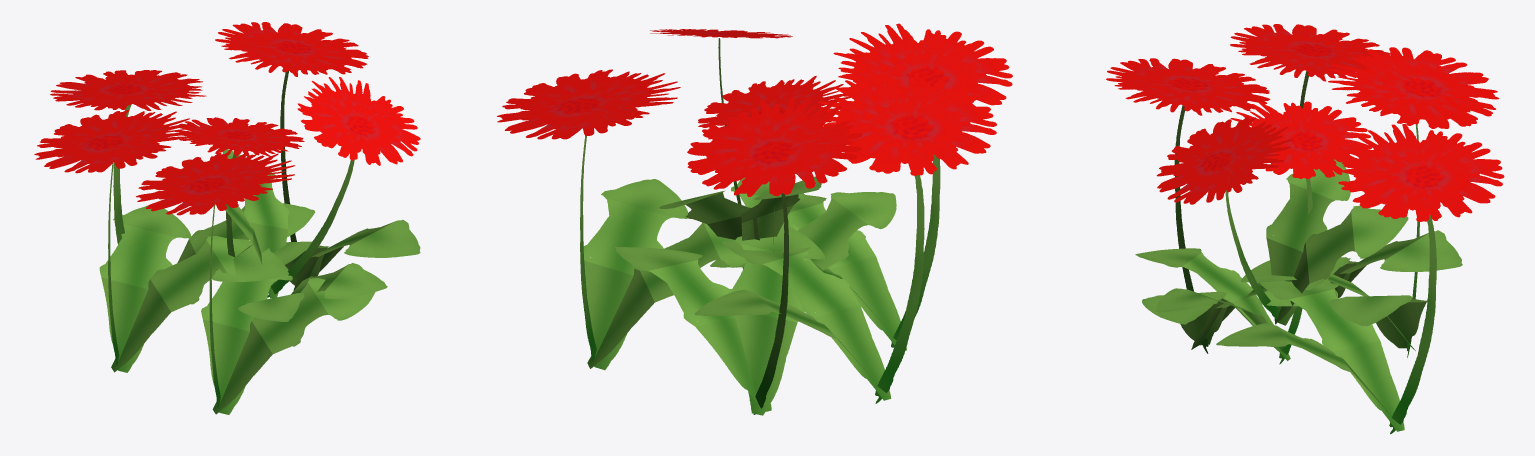
The model's file is FRM0210006.fbx.
3 views of the same model, side by side, from view 1: azimuth 30°, elevation 25°; view 2: azimuth 150°, elevation 25°; view 3: azimuth 270°, elevation 25° (orthographic). The views are drawn at different scales.
Parts seen in each view (by area): view 1: smFRM0210006; view 2: smFRM0210006; view 3: smFRM0210006.
Part boxes in pixels (left/top/right/bottom): smFRM0210006: left=34, top=22, right=420, bottom=414; smFRM0210006: left=497, top=23, right=1012, bottom=415; smFRM0210006: left=1106, top=24, right=1504, bottom=434.
Bounding box in the file's own units: 35.98 × 24.46 × 32.98.
1 material, 1 textured.
